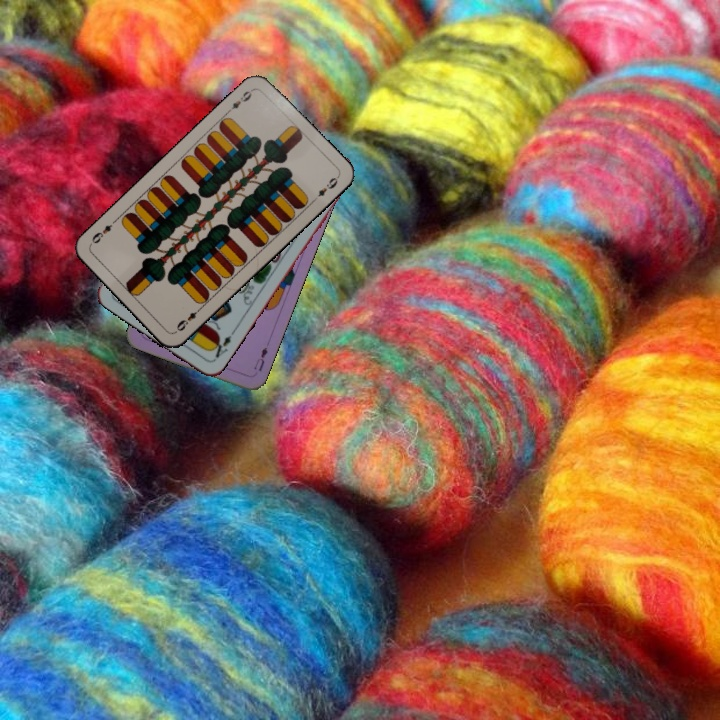E9: (171, 303, 204, 335), (223, 85, 256, 116)
EA: (207, 327, 237, 363)
EU: (249, 343, 270, 374)
